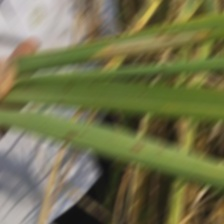Bacterial_Leaf_Blight: (123, 142, 146, 152), (58, 130, 78, 140), (155, 143, 168, 152), (152, 68, 166, 76), (62, 81, 72, 91), (207, 25, 218, 33), (138, 87, 147, 94)
